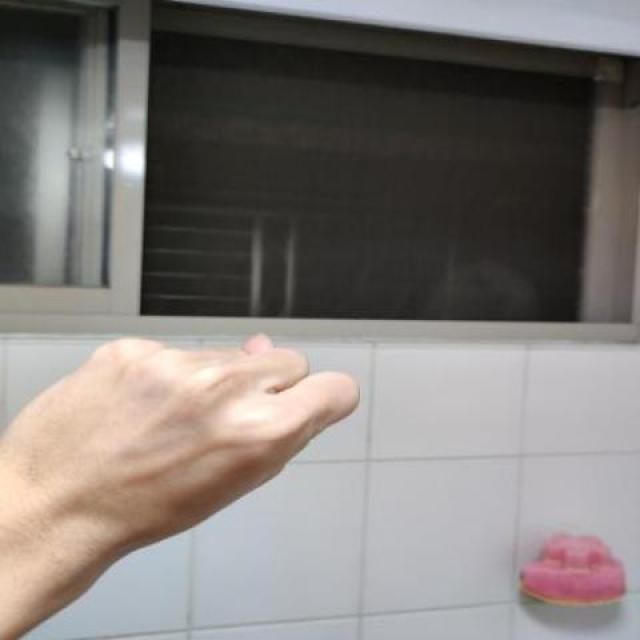fist: (0, 321, 363, 640)
